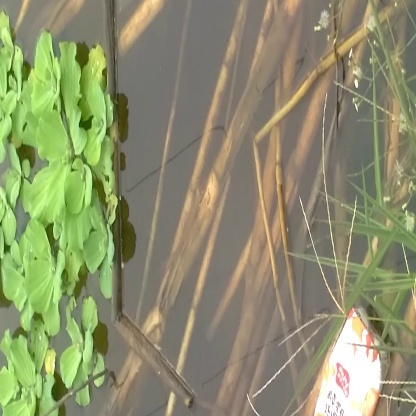milk-box: (300, 305, 398, 416)
